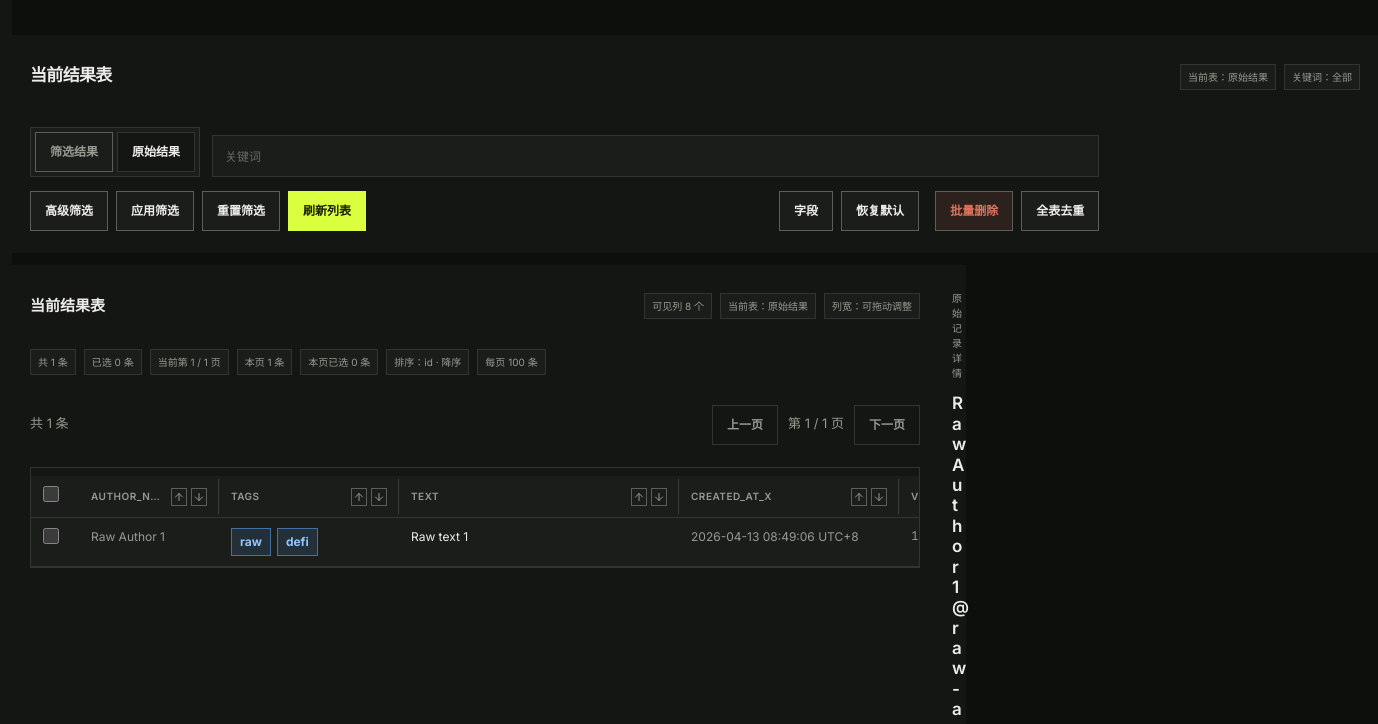
Test: ResultsPage › loads the first curated row into the detail rail, then follows row switching
The width and height of the screenshot is (1378, 724).
Expected: the text "Raw text 1" is shown, [411,529,468,544]
Click the button "筛选结果": point(74, 152) [35,132,113,172]
(page scrolled)
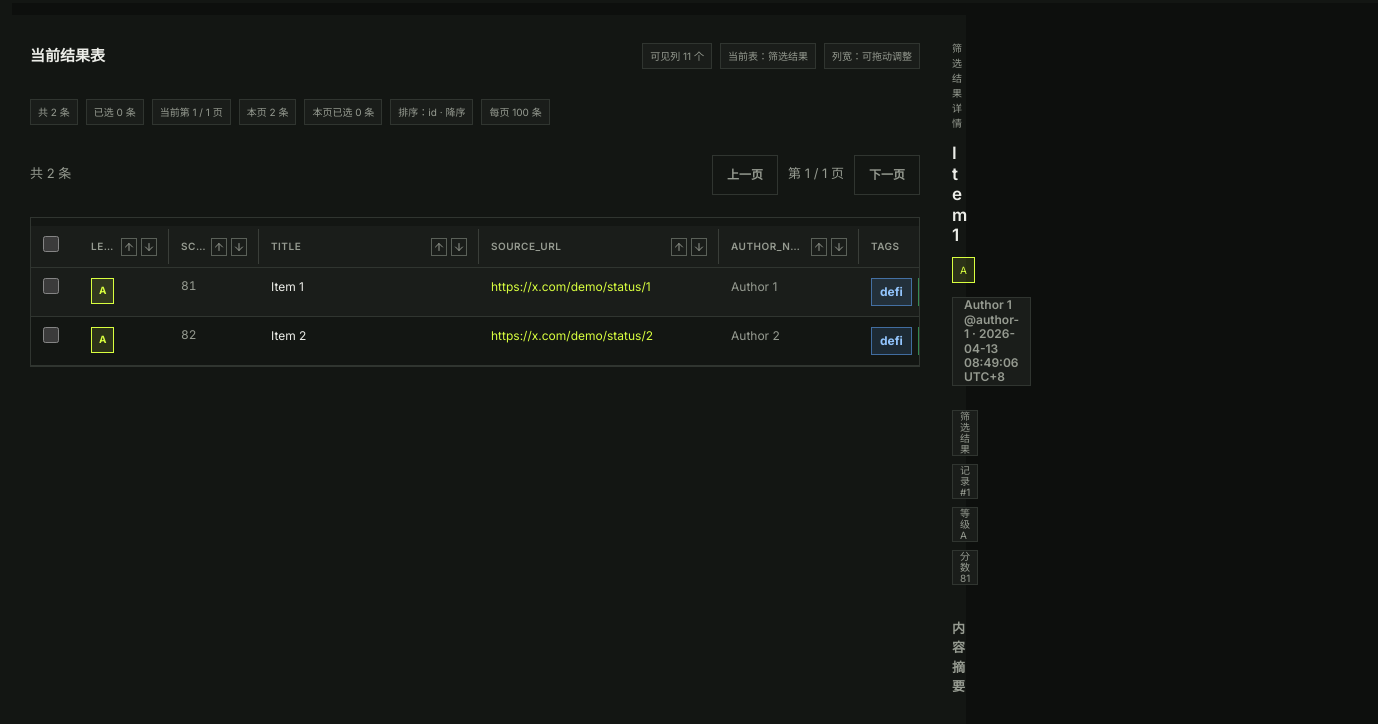
Now the text "Author 1 @author-1 · 2026-04-13 08:49:06 UTC+8" is shown, box [952,297,1031,386]
Now the text "Item 2" is shown, box [271,328,306,343]
Click the text "Item 2": point(704, 341) [31,316,1377,365]
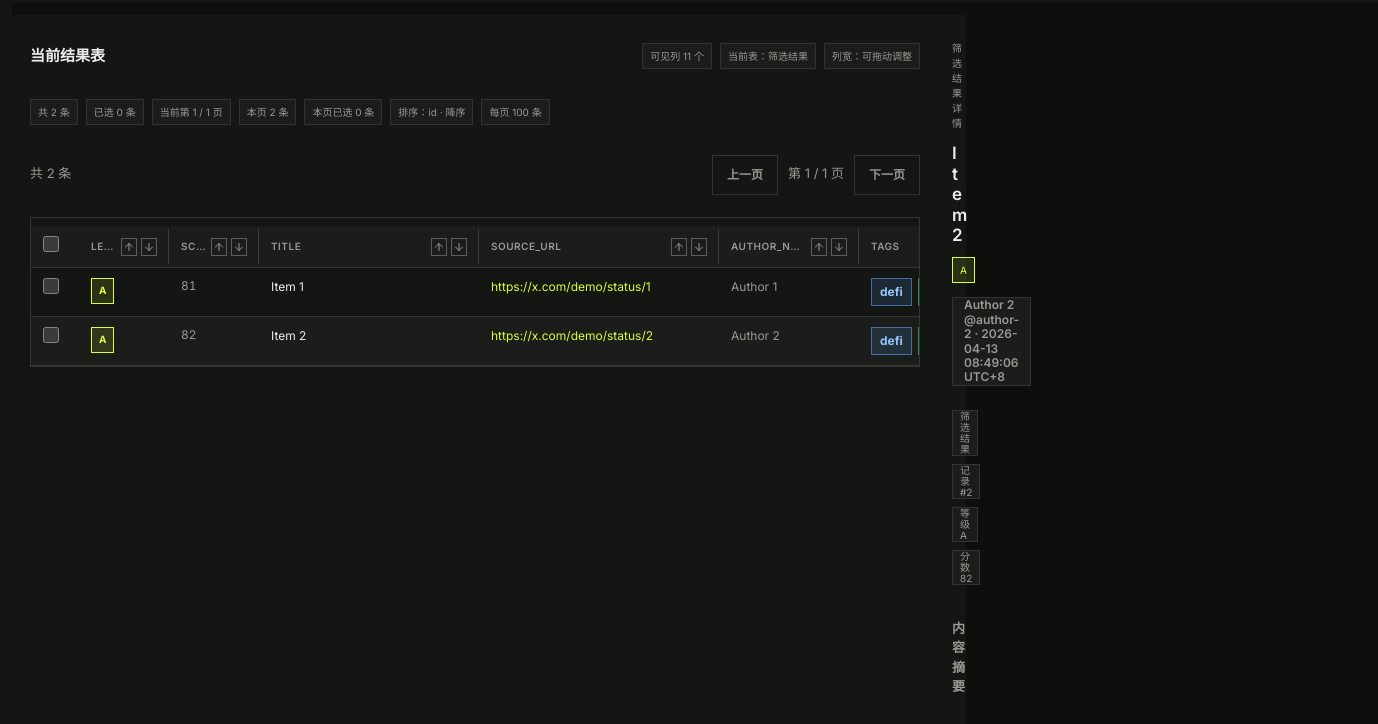
Expected: the text "内容摘要" is shown, [952,619,965,697]
Now the text "Author 2 @author-2 · 2026-04-13 08:49:06 UTC+8" is shown, box [952,297,1031,386]
